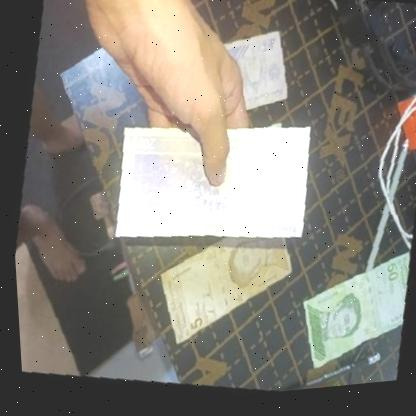two_hundred-back-vef: (95, 89, 325, 283)
